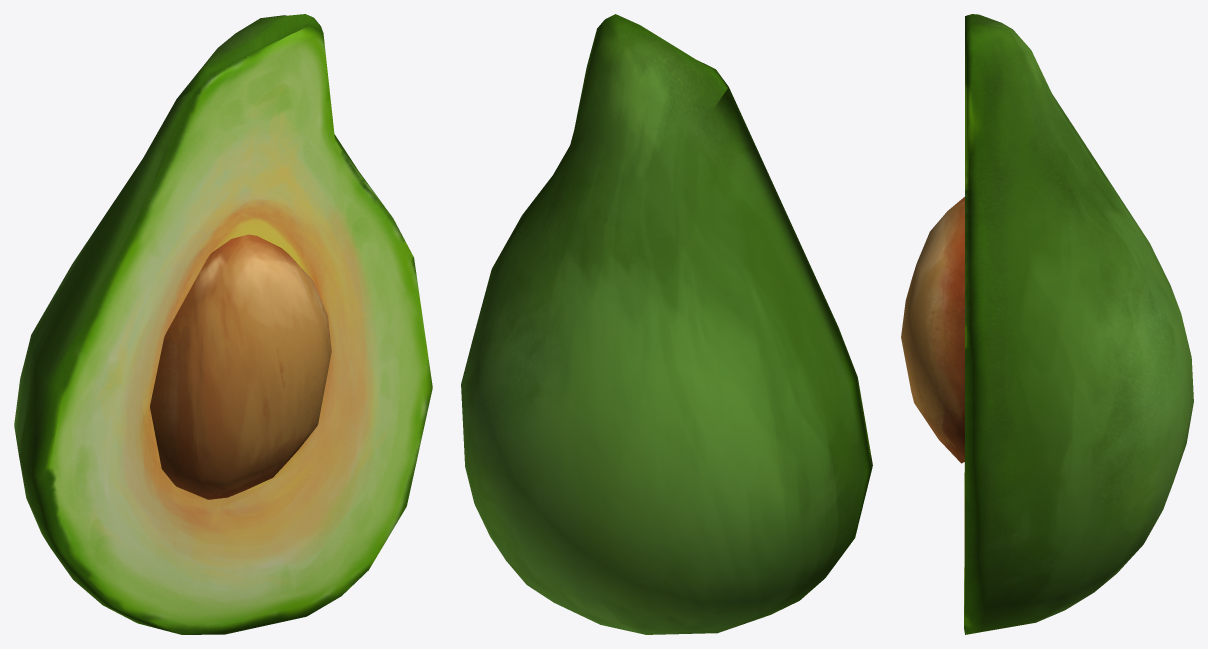
File: pine_lod1.glb
The picture shows the model from 3 angles, left to right: view 1: azimuth 30°, elevation 25°; view 2: azimuth 150°, elevation 25°; view 3: azimuth 270°, elevation 25°; orthographic projection. The views are drawn at different scales.
Visible parts, largest first — view 1: Avocado; view 2: Avocado; view 3: Avocado.
Boxes of the visible parts, x1,y1,x2,y2 form: Avocado: (14,14,432,634); Avocado: (461,14,872,634); Avocado: (901,14,1193,634).
Size of the model in its own units: 0.0425 by 0.0629 by 0.0276.
Materials: 1 (1 with a texture image).
